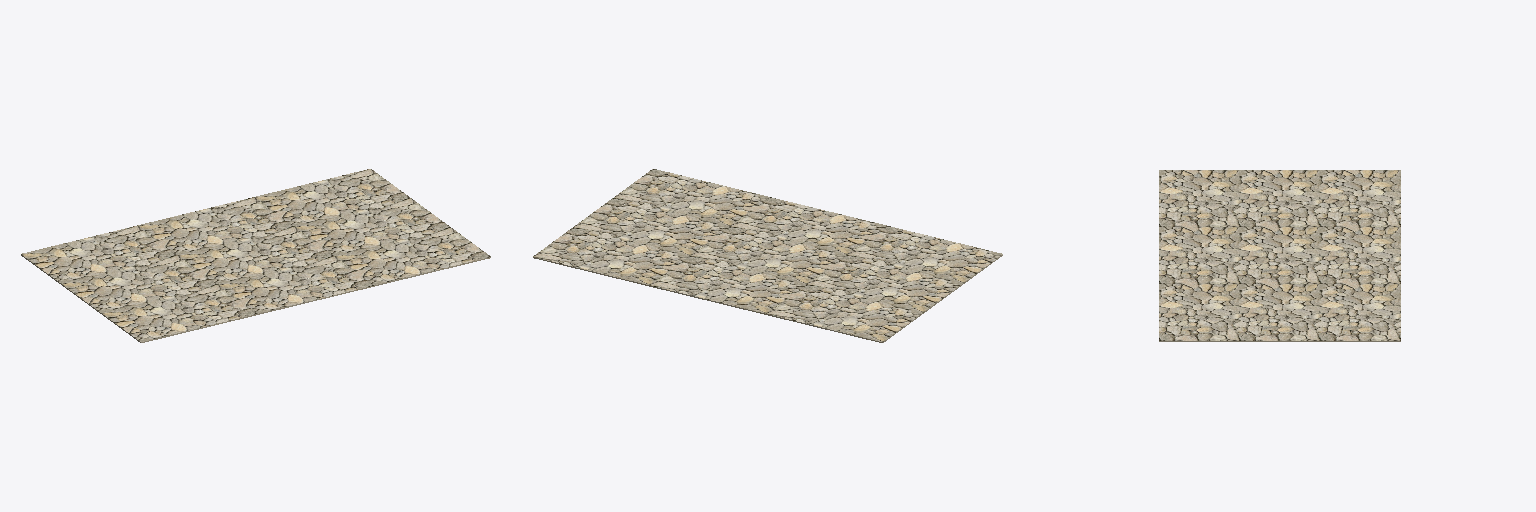
The picture shows the model from 3 angles: view 1: azimuth 30°, elevation 25°; view 2: azimuth 150°, elevation 25°; view 3: azimuth 270°, elevation 25°; orthographic projection.
Visible parts, largest first — view 1: Box001; view 2: Box001; view 3: Box001.
Part boxes in pixels (x1,y1,x2,y2): Box001: (21, 169, 490, 342); Box001: (533, 169, 1002, 342); Box001: (1159, 170, 1400, 341).
Bounding box in the file's own units: 3100 × 10 × 1850.
Materials: 1 (1 with a texture image).